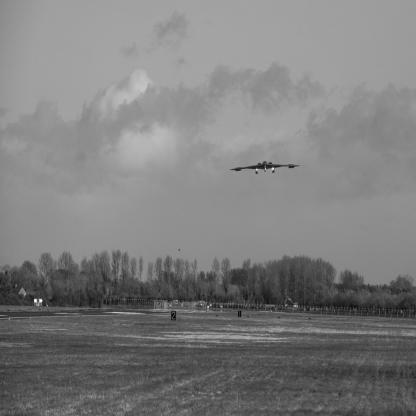B2: (231, 161, 302, 176)
